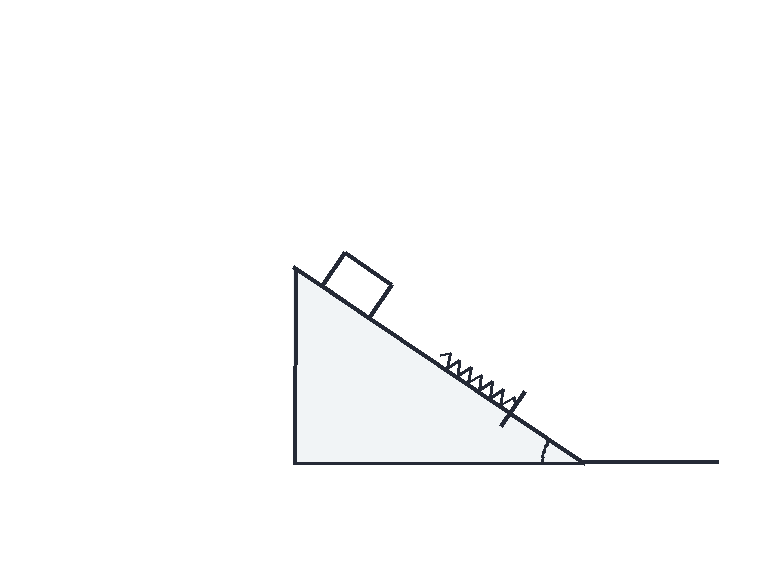block: (320, 251, 393, 320)
ramp: (291, 265, 584, 464)
spring: (438, 351, 517, 408)
